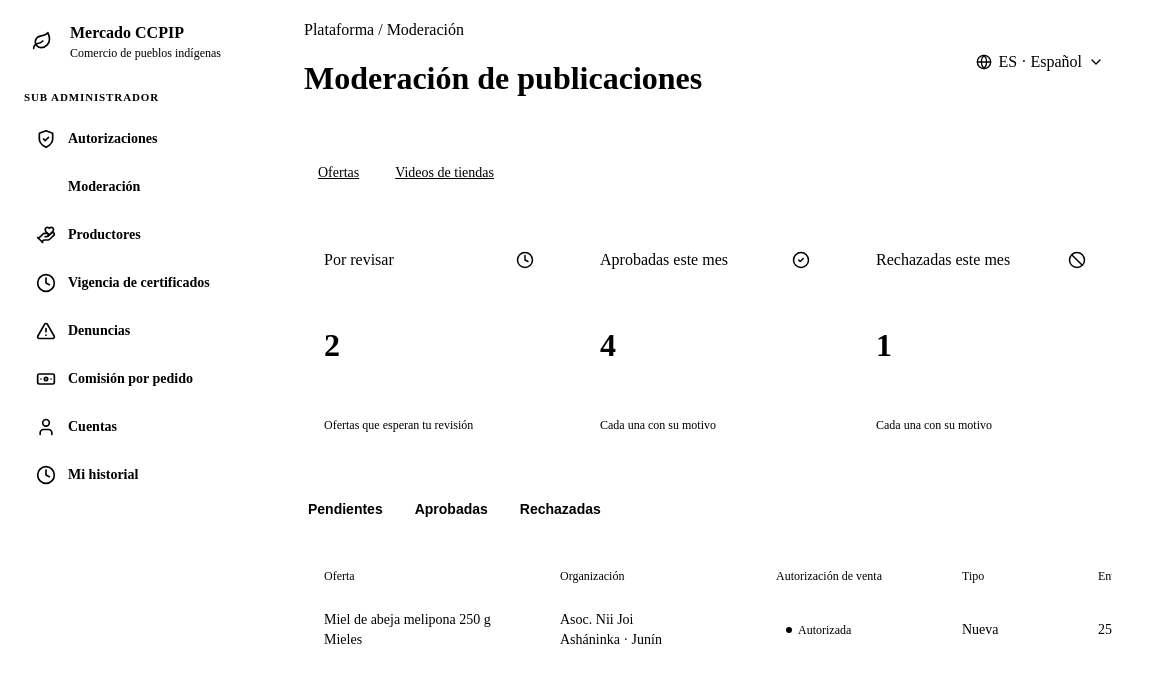
Scenario: CCPIP-46 Moderación de publicaciones › cambia a las decididas
Click the tab "Rechazadas" at (560, 510), box [516,489,605,532]
(page scrolled)
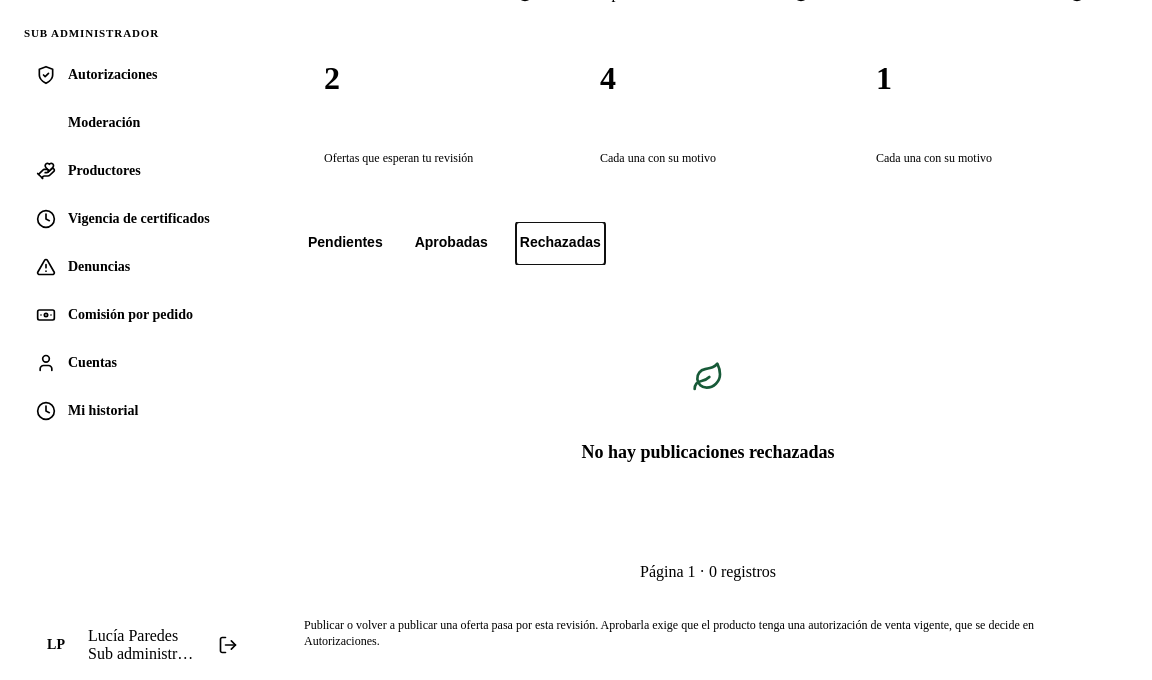
Now the text "No hay publicaciones rechazadas" is shown, box [581,439,835,465]
